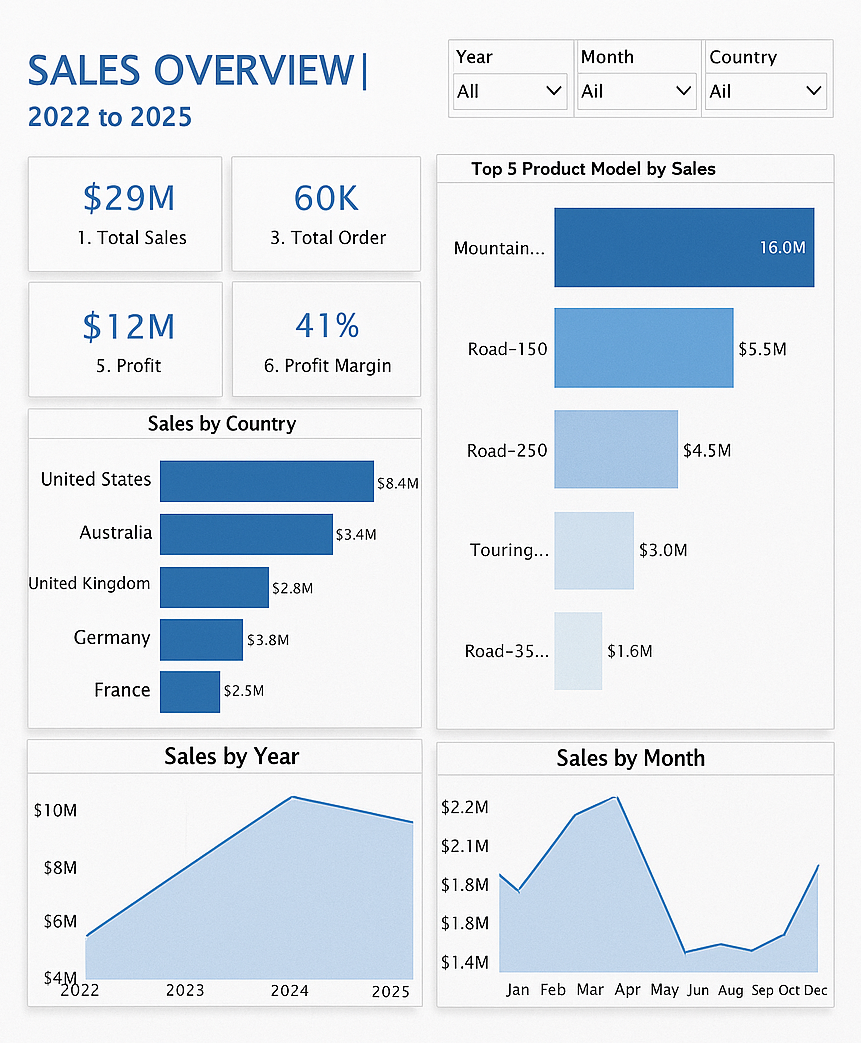

This screenshot's page, from the dashboard's own definition file:
{"tool":"powerbi","page":{"name":"SO","canvas":[2600,1780],"ordinal":0},"visuals":[{"type":"textbox","box":[20,30,1222.5,137.5],"z":0},{"type":"card","fields":{"Values":["dax_measures.1. Total Sales"]},"box":[19.5,240.7,600,180],"z":1000},{"type":"barChart","title":"Top 5 Customer by Sales ","fields":{"Category":["1  Dim_Customers.CustomerName"],"Y":["dax_measures.1. Total Sales"]},"box":[1953.3,240,616.7,966.7],"z":2000},{"type":"card","fields":{"Values":["dax_measures.3. Total Order"]},"box":[643.5,240,600,180],"z":3000},{"type":"actionButton","box":[0,0,100,40],"z":4000},{"type":"card","fields":{"Values":["dax_measures.5. Profit"]},"box":[19.5,444.7,600,180],"z":5000},{"type":"barChart","title":"Top 5 Product Model by Sales ","fields":{"Y":["dax_measures.1. Total Sales"],"Category":["3  Dim_Products.ModelName"]},"box":[1303.3,240,616.7,966.7],"z":6000},{"type":"card","fields":{"Values":["dax_measures.6. Profit Margin"]},"box":[641.5,444,600,180],"z":7000},{"type":"barChart","title":"Sales by Country","fields":{"Category":["2  Dim_Geography.CountryName"],"Y":["dax_measures.1. Total Sales"]},"box":[16.7,640,1240,566.7],"z":9000},{"type":"slicer","fields":{"Values":["calendar.MonthNo","calendar.Month"]},"box":[1623.9,40,313,160],"z":9500},{"type":"stackedAreaChart","title":"Sales by Month","fields":{"Y":["dax_measures.1. Total Sales"],"Category":["calendar.Month"]},"box":[1283.3,1243.3,1296.7,513.3],"z":10000},{"type":"stackedAreaChart","title":"Sales by Year","fields":{"Y":["dax_measures.1. Total Sales"],"Category":["0  dim_date.Year"]},"box":[16,1242,1240,514],"z":11000},{"type":"slicer","fields":{"Values":["4  Fact_Sales.OrderDate.Variation.Date Hierarchy.Year"]},"box":[1300,40,313,160],"z":14500},{"type":"slicer","fields":{"Values":["2  Dim_Geography.City"]},"box":[2271.8,40,313,160],"z":15000},{"type":"slicer","fields":{"Values":["2  Dim_Geography.CountryName"]},"box":[1947.9,40,313,160],"z":15500}]}

Visuals, with their boxes on the page's 2600x1780 design canvas (x1, y1, x2, y2). These are canvas units, not pixel positions in the 861x1043 screenshot, which may show the page scaled, cropped or inside an application window:
textbox: l=20, t=30, r=1242, b=168
card - dax_measures.1. Total Sales: l=20, t=241, r=620, b=421
"Top 5 Customer by Sales " barChart: l=1953, t=240, r=2570, b=1207
card - dax_measures.3. Total Order: l=644, t=240, r=1244, b=420
actionButton: l=0, t=0, r=100, b=40
card - dax_measures.5. Profit: l=20, t=445, r=620, b=625
"Top 5 Product Model by Sales " barChart: l=1303, t=240, r=1920, b=1207
card - dax_measures.6. Profit Margin: l=642, t=444, r=1242, b=624
"Sales by Country" barChart: l=17, t=640, r=1257, b=1207
slicer - calendar.MonthNo x calendar.Month: l=1624, t=40, r=1937, b=200
"Sales by Month" stackedAreaChart: l=1283, t=1243, r=2580, b=1757
"Sales by Year" stackedAreaChart: l=16, t=1242, r=1256, b=1756
slicer - 4  Fact_Sales.OrderDate.Variation.Date Hierarchy.Year: l=1300, t=40, r=1613, b=200
slicer - 2  Dim_Geography.City: l=2272, t=40, r=2585, b=200
slicer - 2  Dim_Geography.CountryName: l=1948, t=40, r=2261, b=200
